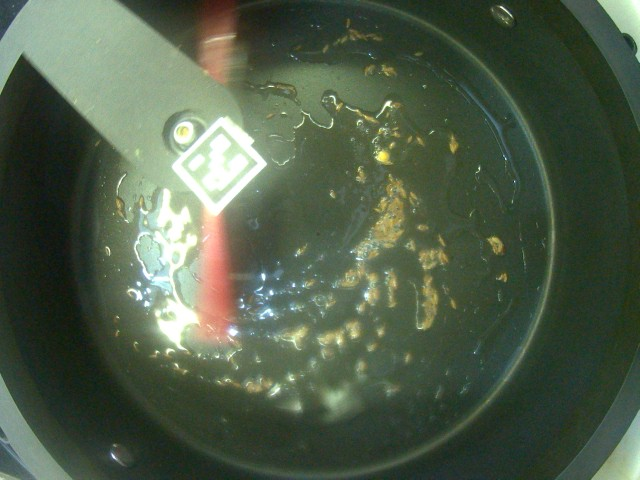stirrer: (20, 3, 271, 217)
